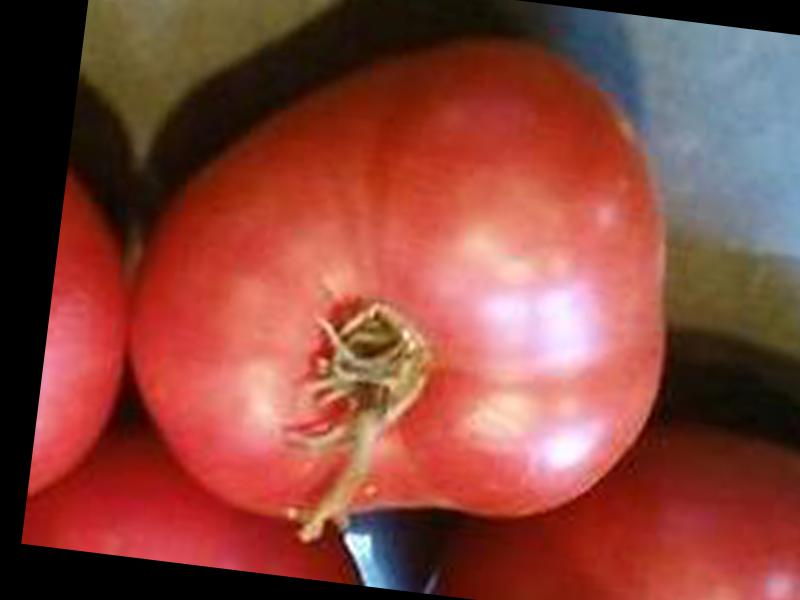Tomato: (112, 1, 700, 561)
